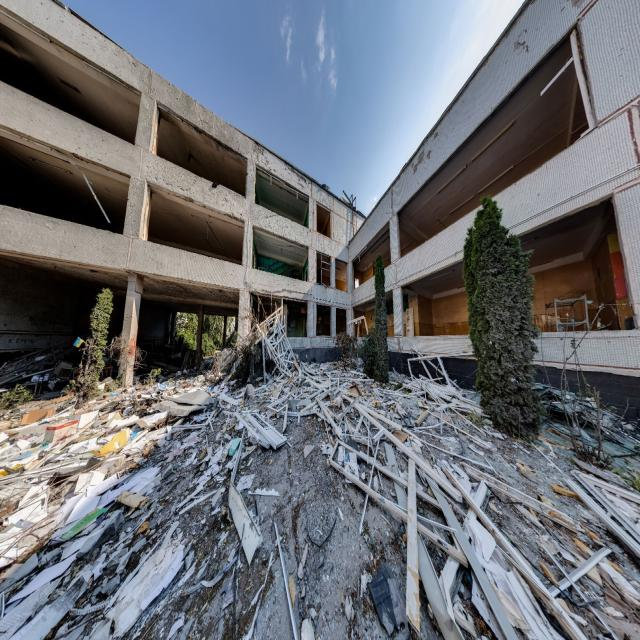broken_window: (254, 166, 309, 227), (252, 226, 308, 281)
building: (0, 0, 367, 394), (337, 0, 639, 409)
